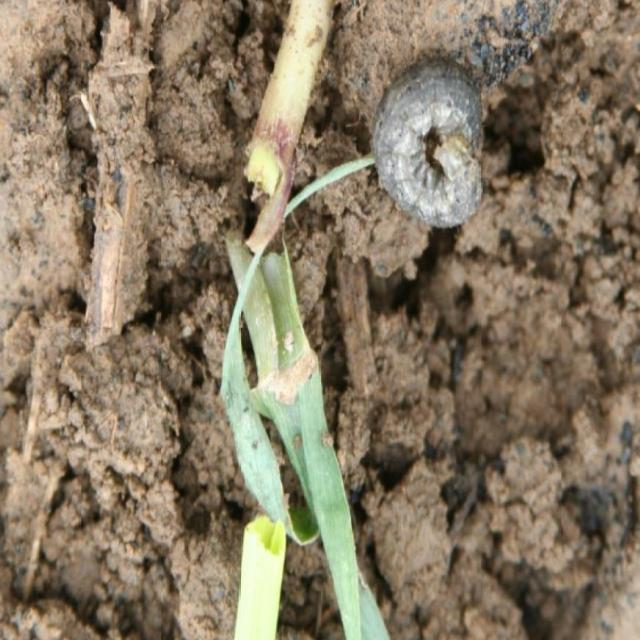black cutworm: (363, 58, 499, 234)
